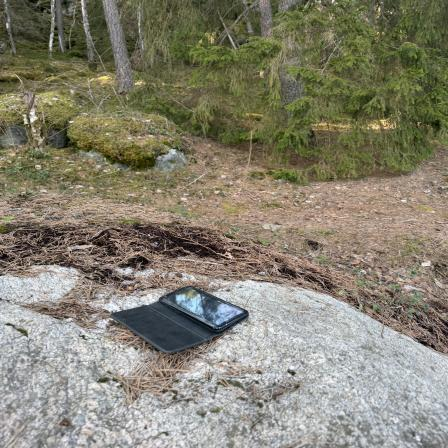phone: (109, 285, 253, 352)
